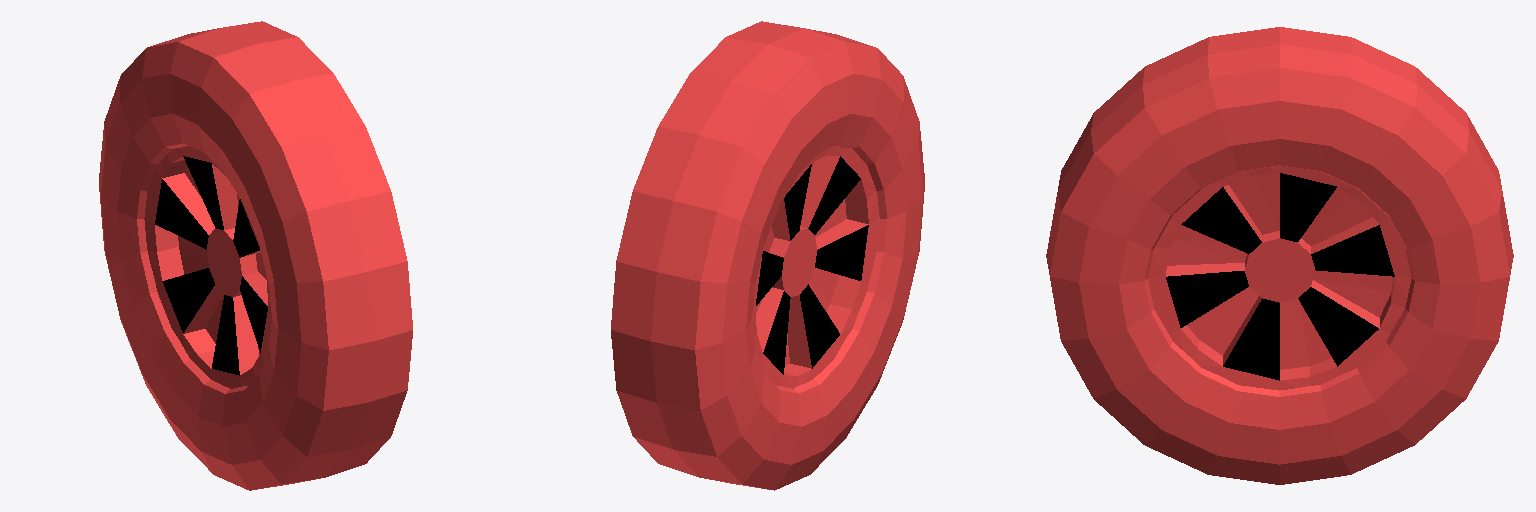
File: front_wheel.obj
The picture shows the model from 3 angles: view 1: azimuth 30°, elevation 25°; view 2: azimuth 150°, elevation 25°; view 3: azimuth 270°, elevation 25°; orthographic projection.
Visible parts, largest first — view 1: prednji_deo2; view 2: prednji_deo2; view 3: prednji_deo2.
Part boxes in pixels (bbox=[...]): prednji_deo2: bbox=[99, 21, 412, 490]; prednji_deo2: bbox=[611, 21, 924, 490]; prednji_deo2: bbox=[1046, 27, 1513, 484].
Size of the model in its own units: 4.36 by 15.13 by 15.13.